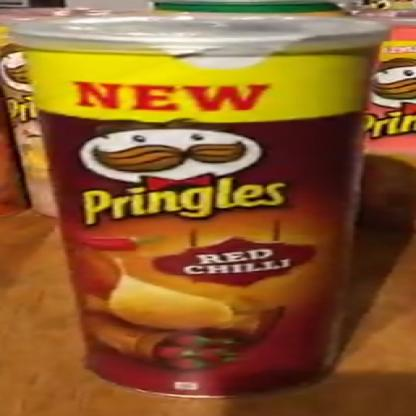potatochip: (10, 14, 389, 406)
